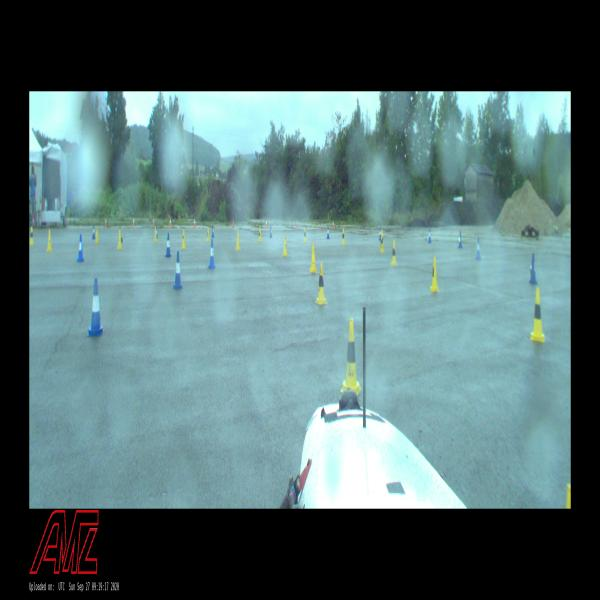blue_cone: (88, 279, 104, 335), (173, 251, 184, 289), (208, 238, 216, 268), (529, 254, 537, 284), (78, 234, 84, 262), (166, 234, 172, 258), (475, 237, 481, 261), (92, 225, 97, 241), (458, 230, 462, 248), (326, 226, 330, 239), (211, 224, 215, 237), (378, 225, 381, 240), (428, 228, 431, 242), (269, 226, 272, 237)
orange_cone: (132, 216, 135, 227), (169, 217, 172, 226), (265, 220, 268, 228), (194, 217, 196, 228), (105, 216, 107, 227), (296, 218, 298, 228), (232, 218, 234, 228), (153, 218, 155, 228), (332, 219, 334, 227)
yellow_cone: (341, 319, 361, 397), (530, 287, 546, 342), (314, 264, 328, 305), (429, 257, 440, 292), (309, 244, 317, 273), (391, 240, 397, 266), (46, 230, 52, 251), (116, 230, 122, 250), (235, 231, 241, 251), (379, 230, 384, 253), (283, 234, 288, 256), (94, 227, 100, 245), (29, 226, 34, 245), (182, 230, 186, 248), (341, 228, 345, 245), (303, 228, 307, 243), (258, 227, 262, 241), (206, 228, 210, 242), (153, 227, 157, 241)
